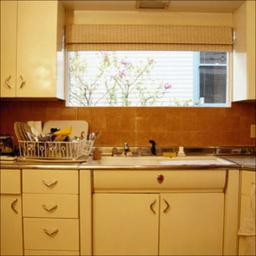Lavaplatos: (102, 142, 240, 172)
